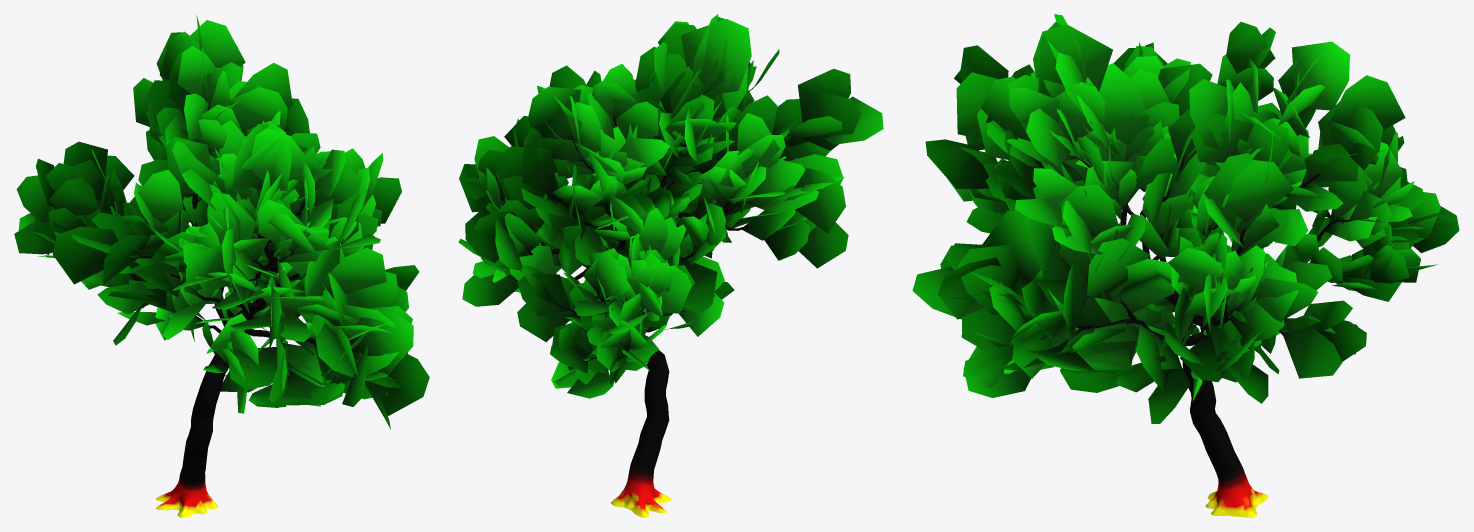
Rendered from Oak_Large_1_LOD_1.fbx.
3 renders of one model, left to right at view 1: azimuth 30°, elevation 25°; view 2: azimuth 150°, elevation 25°; view 3: azimuth 270°, elevation 25°, orthographic. The views are drawn at different scales.
Parts seen in each view (by area): view 1: Oak_Large_1_LOD_1; view 2: Oak_Large_1_LOD_1; view 3: Oak_Large_1_LOD_1.
Part boxes in pixels (x1,y1,x2,y2): Oak_Large_1_LOD_1: (14,14,429,517); Oak_Large_1_LOD_1: (458,14,883,517); Oak_Large_1_LOD_1: (912,14,1459,517).
Bounding box in the file's own units: 24.83 × 28.48 × 28.64.
